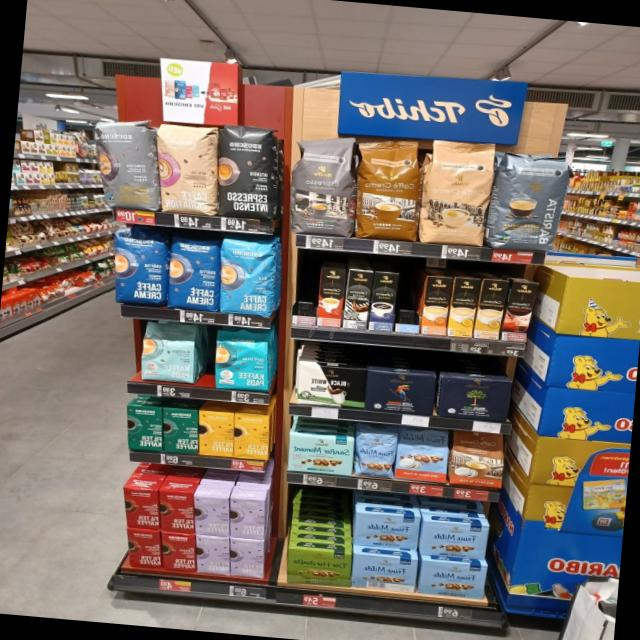BM Gemahlen: (434, 372, 514, 424)
BW Gemahlen: (292, 361, 368, 412)
Barista CC: (482, 146, 576, 258)
CC Mild: (412, 134, 500, 252)
CC Vollmundig: (444, 429, 508, 490)
CC Vollmundig 36 Pads: (348, 132, 426, 245)
Empty Shelf: (290, 263, 320, 328), (392, 274, 425, 333)
Espresso Aromatisch: (287, 129, 362, 240)
FM 36 Pads: (392, 426, 452, 484)
FM Bohne: (352, 424, 400, 479)
FM Gemahlen: (418, 518, 492, 560), (416, 557, 488, 600), (349, 551, 419, 593), (351, 510, 423, 550)
Herzhatfe Mundig: (283, 546, 355, 589)
LG Gemahlen: (361, 367, 441, 417)
SM Gemahlen: (285, 429, 356, 477)
Simo CC Colombia: (497, 279, 539, 341)
Simo CCMild bigpack: (445, 275, 482, 339)
Simo CCVollmundig bigpack: (418, 274, 454, 336)
Simo Decaff: (471, 277, 511, 341)
Simo Es Elegant: (314, 264, 348, 329)
Simo Kaffee BW: (340, 267, 374, 332)
Simo Kaffee Kraft: (366, 271, 400, 331)
